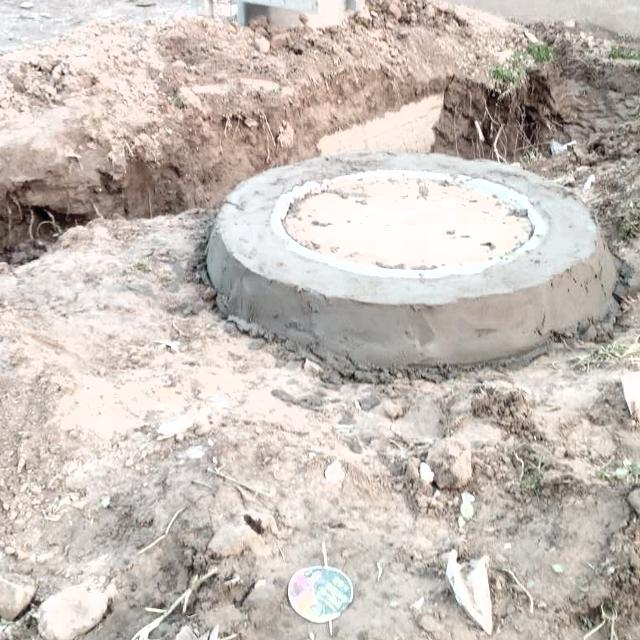good: (273, 165, 546, 275)
